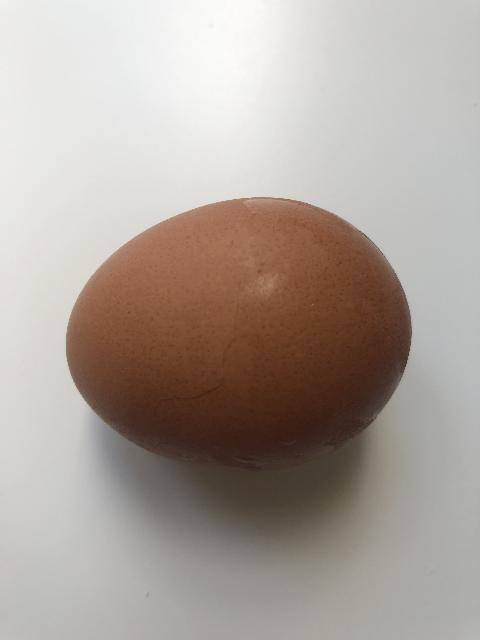Sano: (64, 195, 413, 473)
